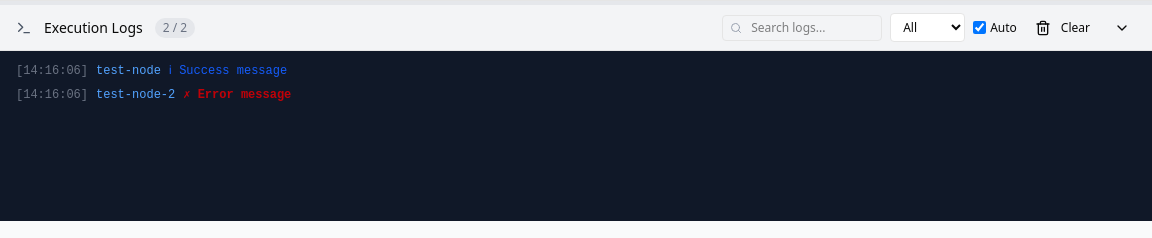
Scenario: ExecutionLogPanel › should filter logs by search term
Type "Success" into the field with placeholder "Search logs..." at {"x": 802, "y": 28}, box [722, 15, 882, 41]
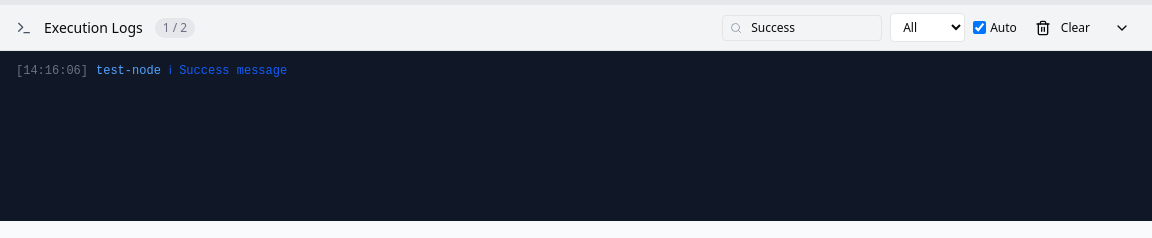
Expected: the text "ℹ Success message" is shown, [169, 64, 287, 78]
Now the text "Error message" is gone
